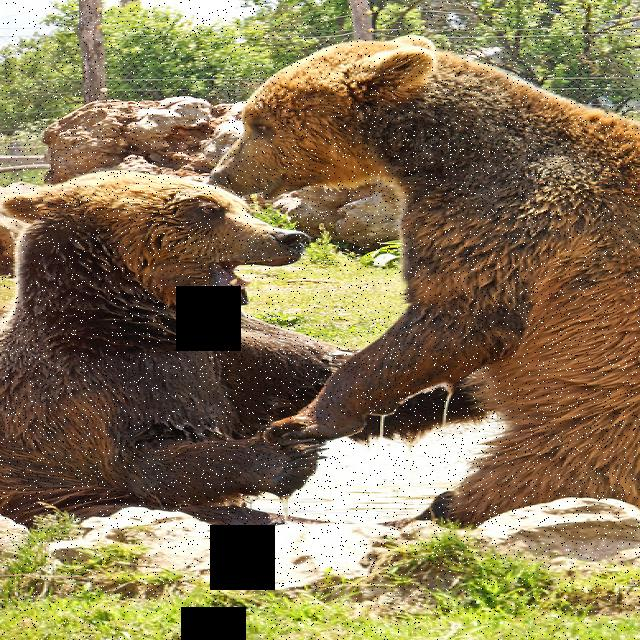Bear: (223, 30, 640, 548), (5, 171, 325, 547)
